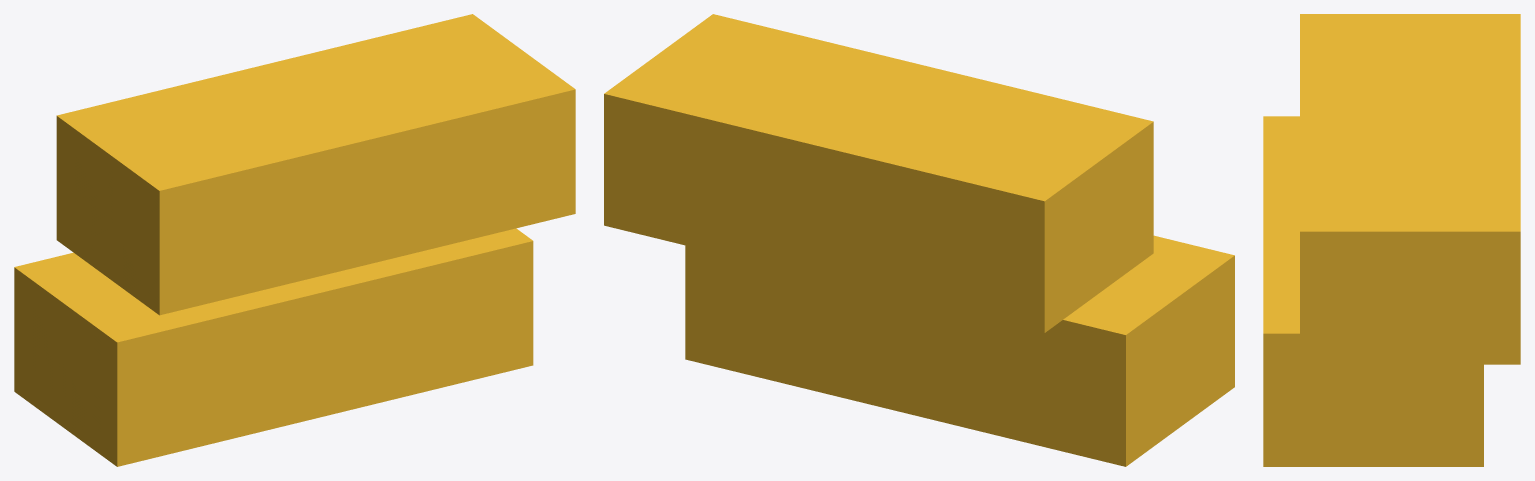
The model's file is loot_gold.glb.
3 views of the same model, side by side, from view 1: azimuth 30°, elevation 25°; view 2: azimuth 150°, elevation 25°; view 3: azimuth 270°, elevation 25° (orthographic). The views are drawn at different scales.
Visible parts, largest first — view 1: Gold; view 2: Gold; view 3: Gold.
Part boxes in pixels (bbox=[...]): Gold: bbox=[14, 14, 575, 466]; Gold: bbox=[604, 14, 1234, 466]; Gold: bbox=[1263, 14, 1520, 466].
Bounding box in the file's own units: 0.8 × 0.4 × 0.35.
